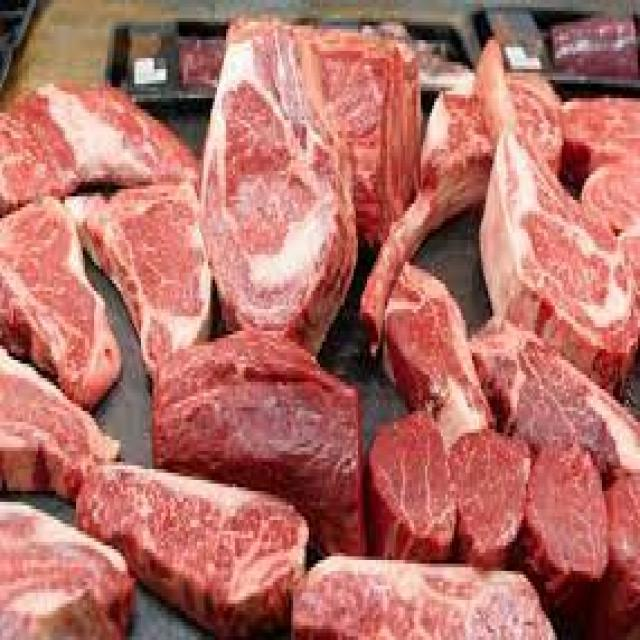Wet: (391, 106, 640, 392), (374, 403, 640, 597), (5, 99, 203, 329), (150, 358, 358, 546), (216, 93, 358, 339), (3, 490, 136, 640)
